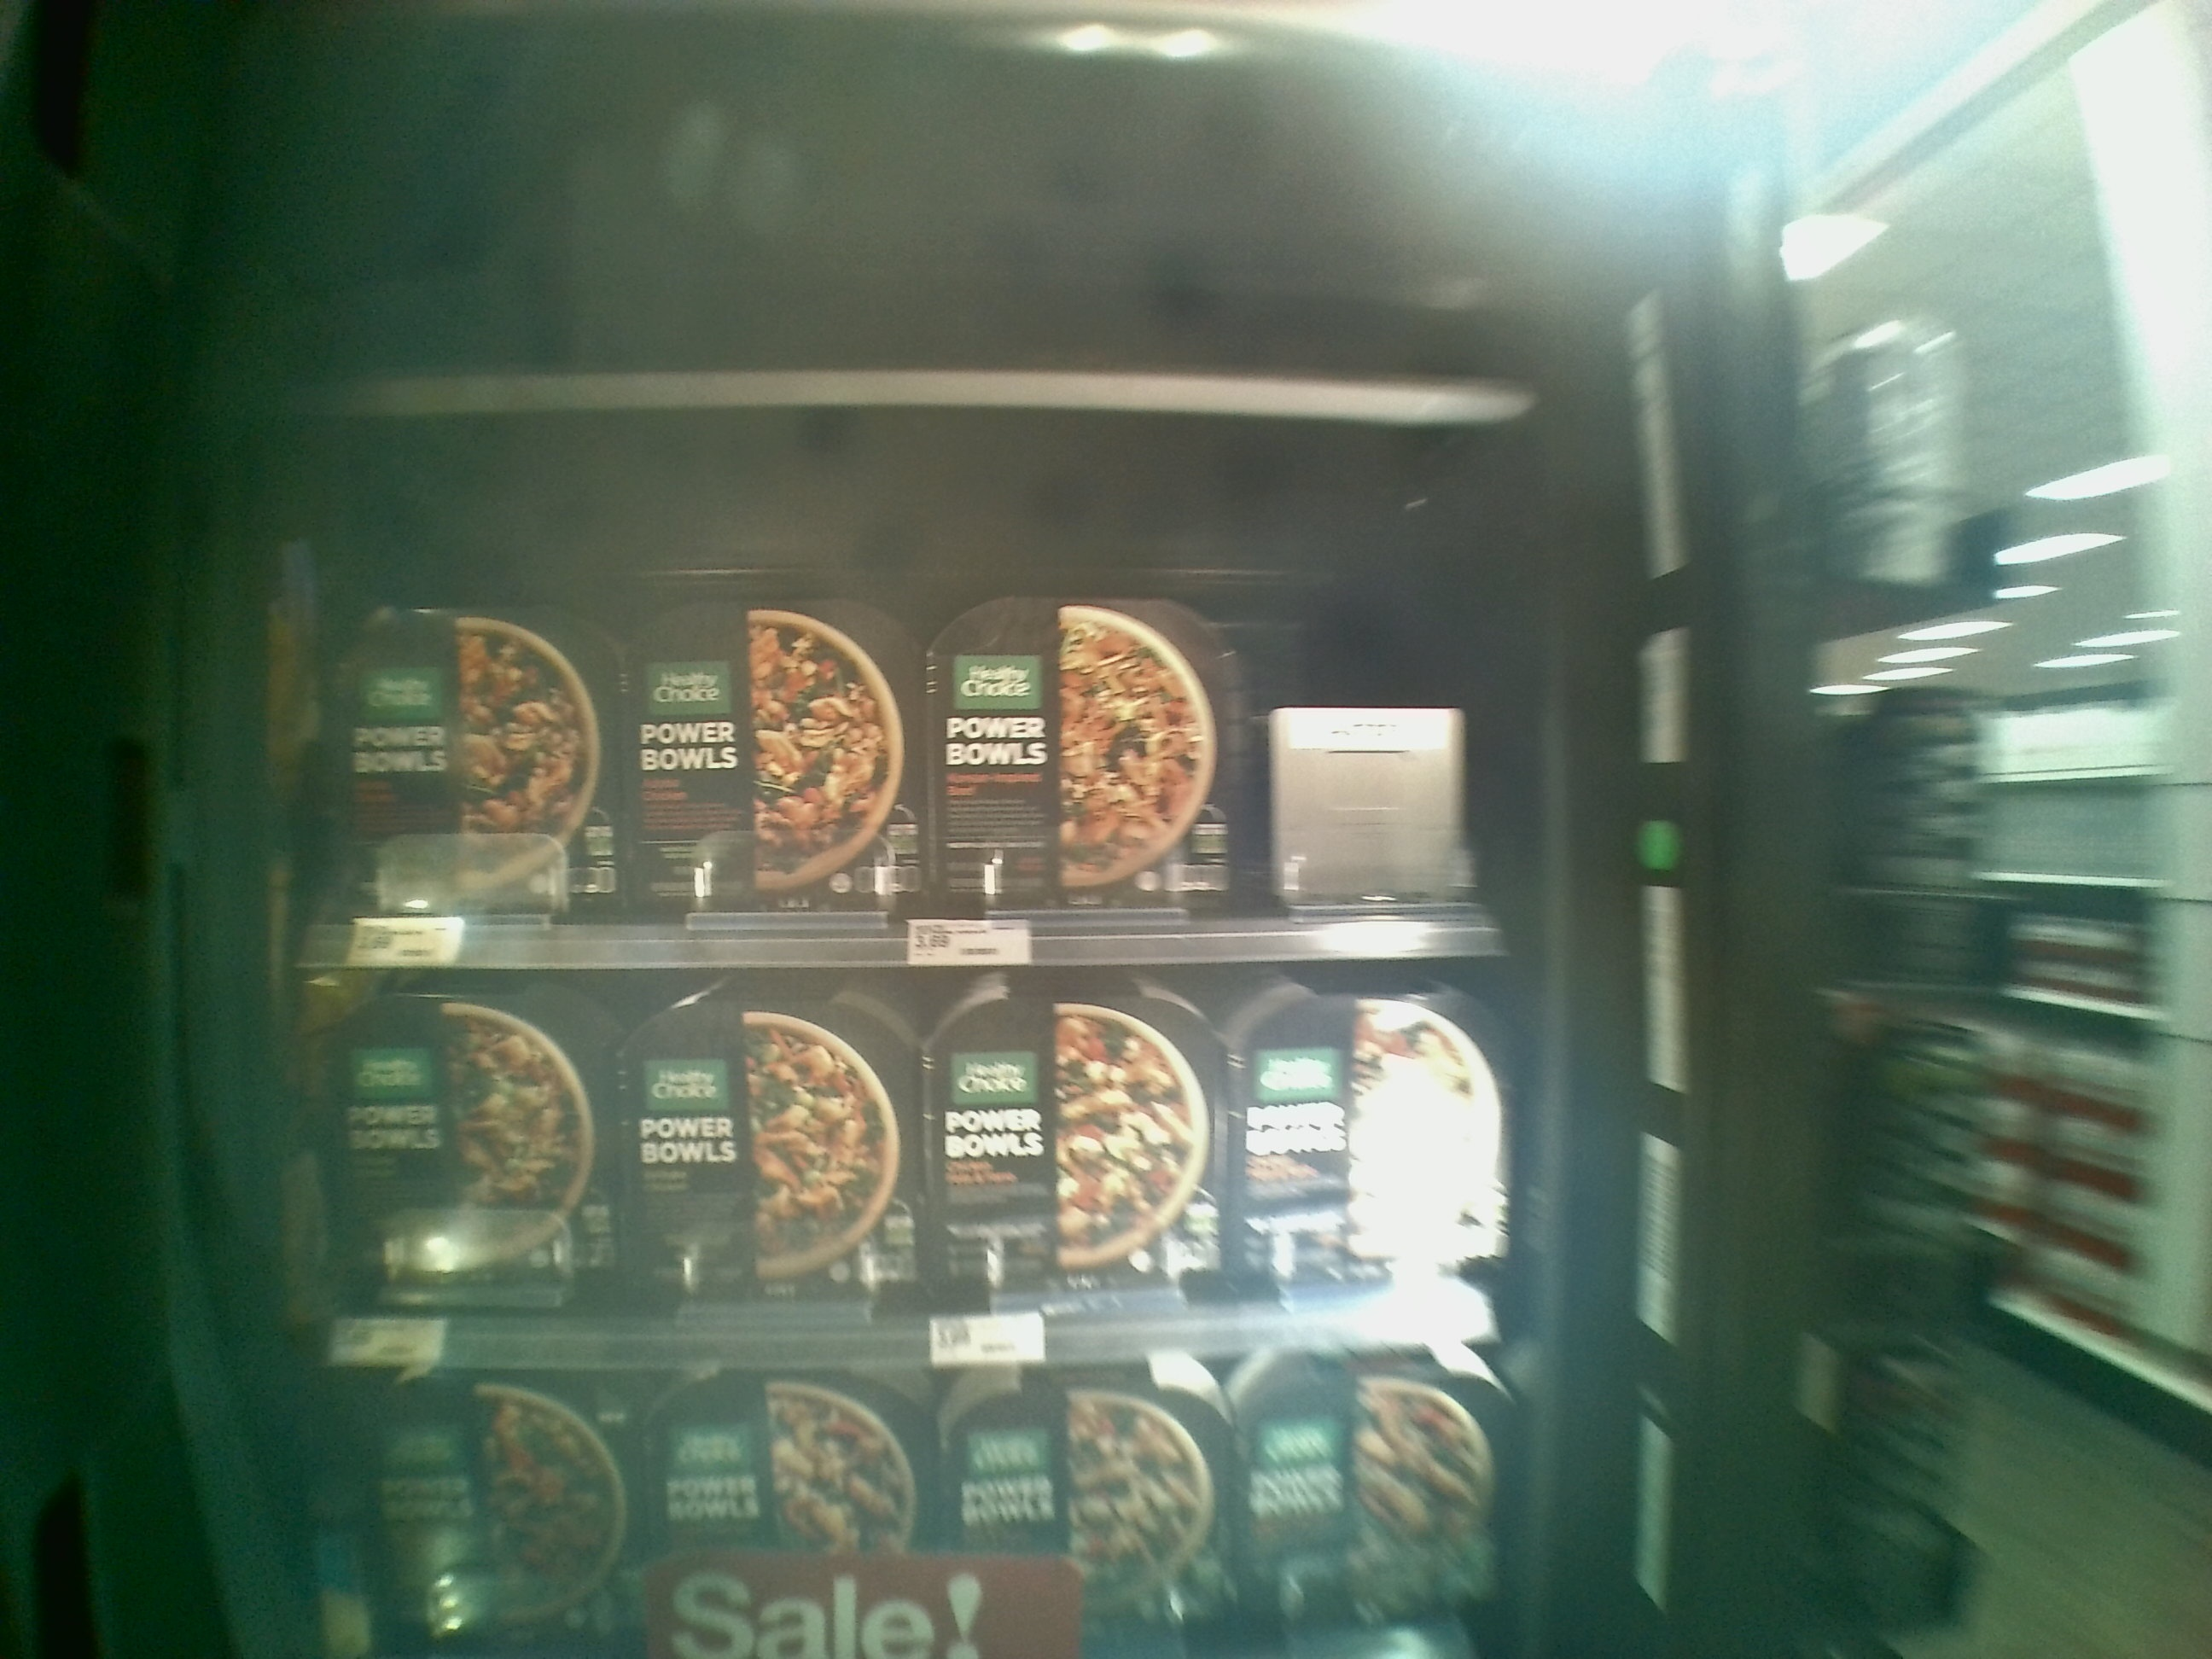shelf: (272, 403, 1507, 958), (286, 953, 1510, 1377)
